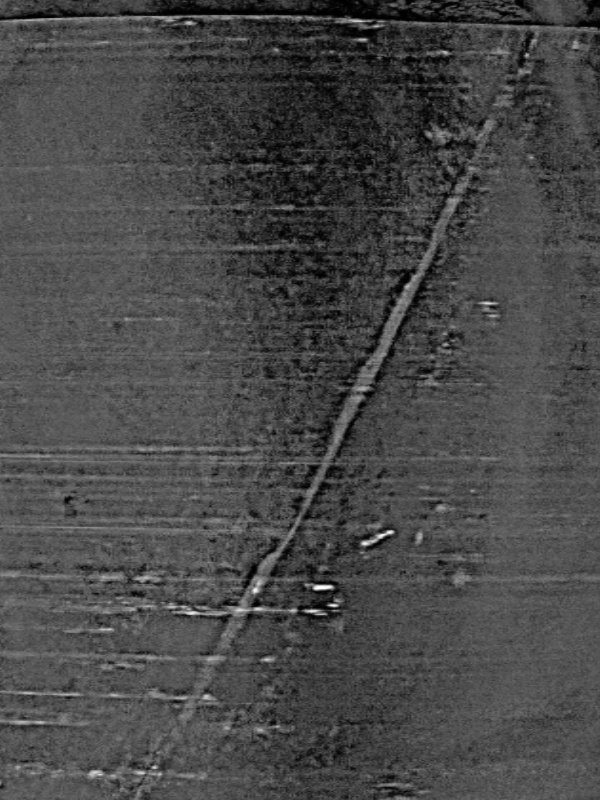splice_vulcanized: (88, 28, 586, 800)
